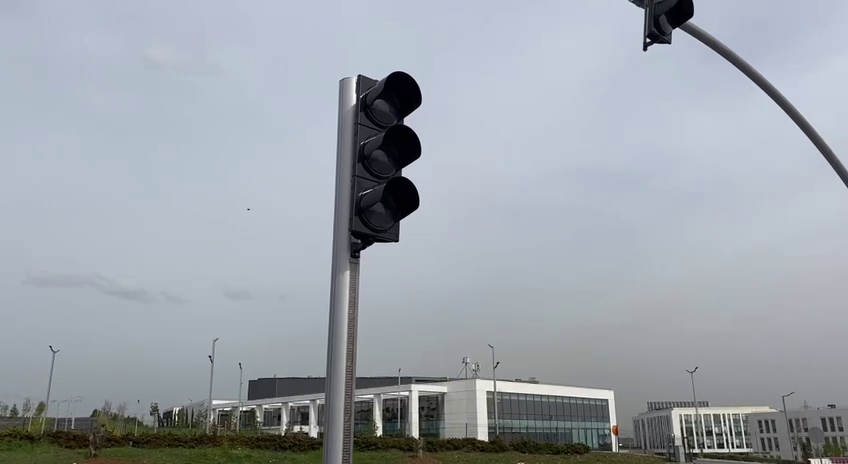trafficLight: (337, 65, 426, 253), (634, 1, 699, 55)
